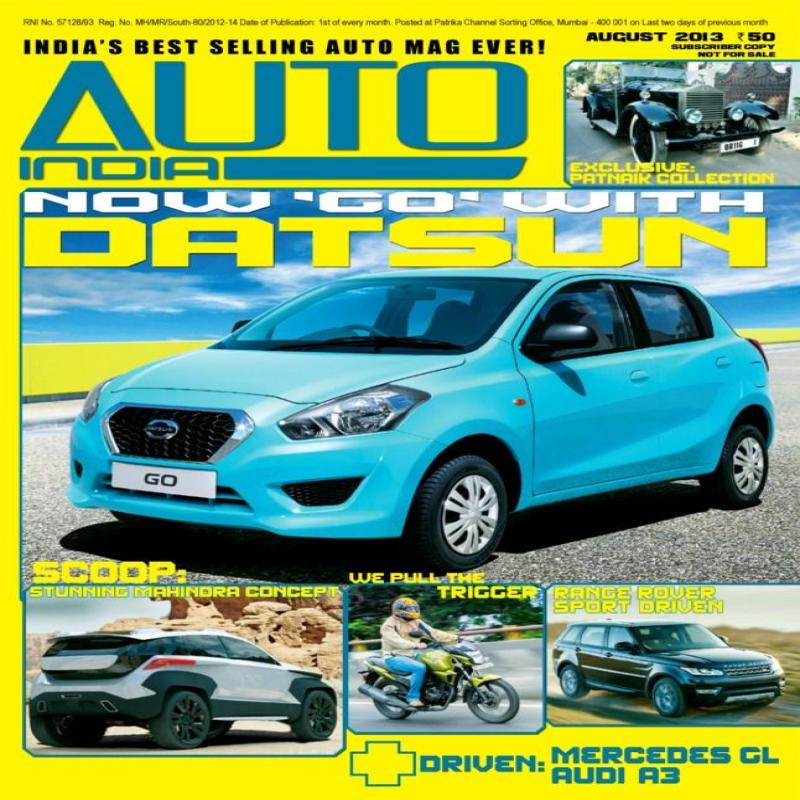car: (43, 247, 787, 543)
